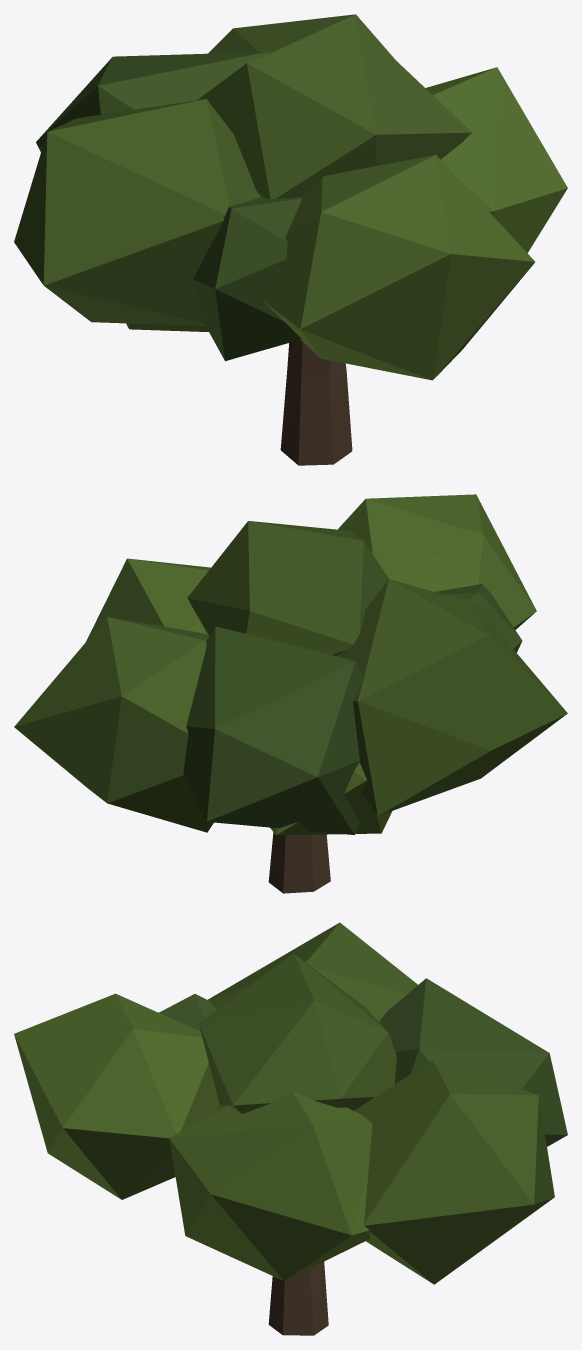
The picture shows the model from 3 angles, top to bottom: view 1: azimuth 30°, elevation 25°; view 2: azimuth 150°, elevation 25°; view 3: azimuth 270°, elevation 25°; orthographic projection. The views are drawn at different scales.
Parts seen in each view (by area): view 1: E1_eg_c; view 2: E1_eg_c; view 3: E1_eg_c.
Boxes of the visible parts, left/top/right/bottom form: E1_eg_c: left=14, top=14, right=567, bottom=465; E1_eg_c: left=14, top=494, right=567, bottom=893; E1_eg_c: left=14, top=922, right=567, bottom=1335.
Bounding box in the file's own units: 7.59 × 5.76 × 8.39.
